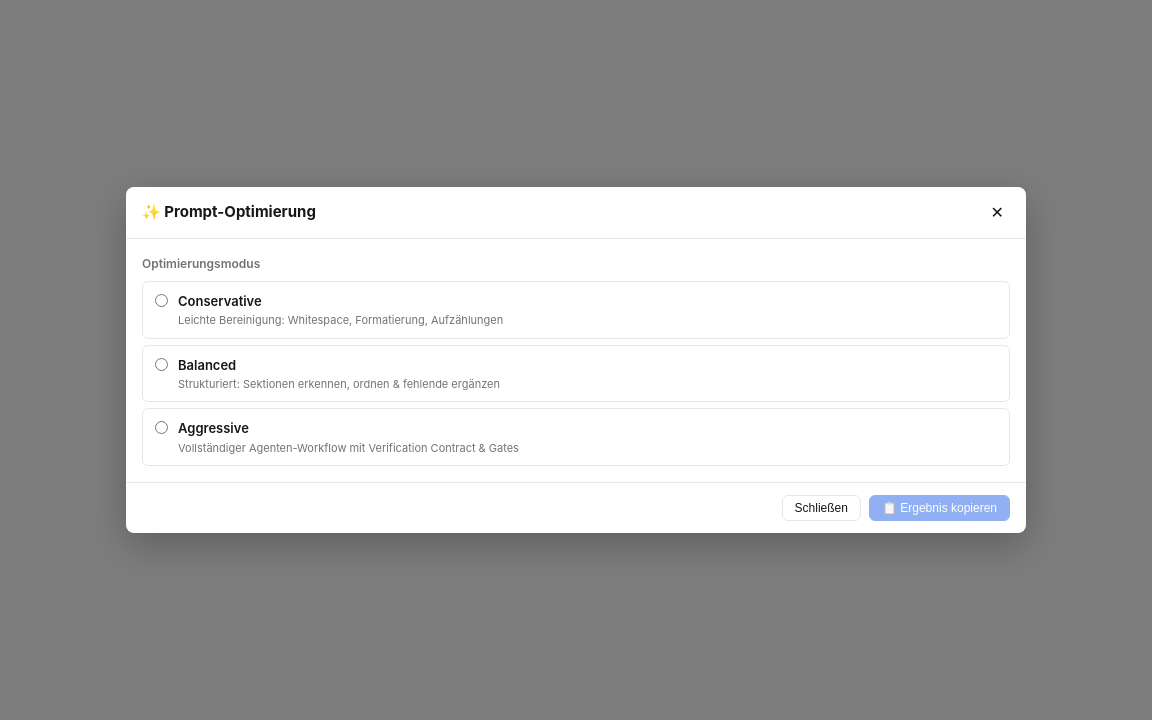
Test case: OptimizationPanel screenshot regressions › shows a visible added-section preview when changes are appended below the fold
The width and height of the screenshot is (1152, 720).
What coordinates should you click on to do the following:
click the radio button labelled "Aggressive"
I would click on:
 (162, 428)
Its box is [155,421,168,434].
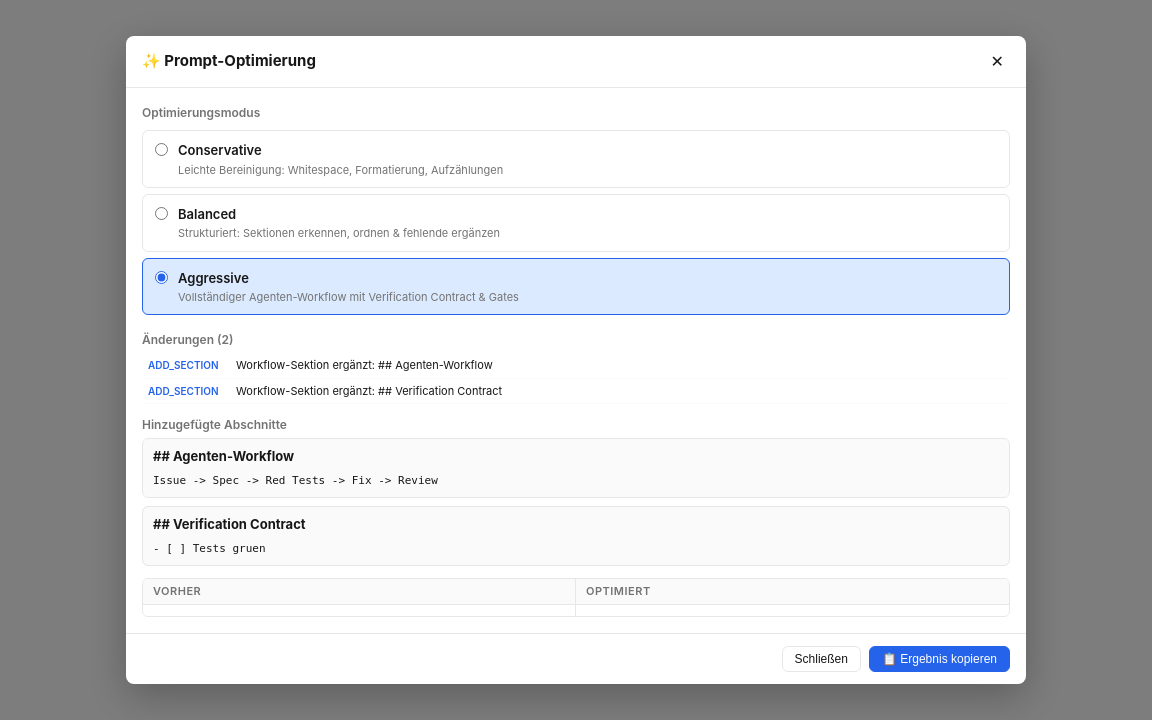
Check: the heading "Hinzugefügte Abschnitte" is shown, box [142,417,287,432]
Check: the text "## Agenten-Workflow" is shown, box [153,448,294,464]
Check: the text "## Verification Contract" is shown, box [153,516,306,532]
